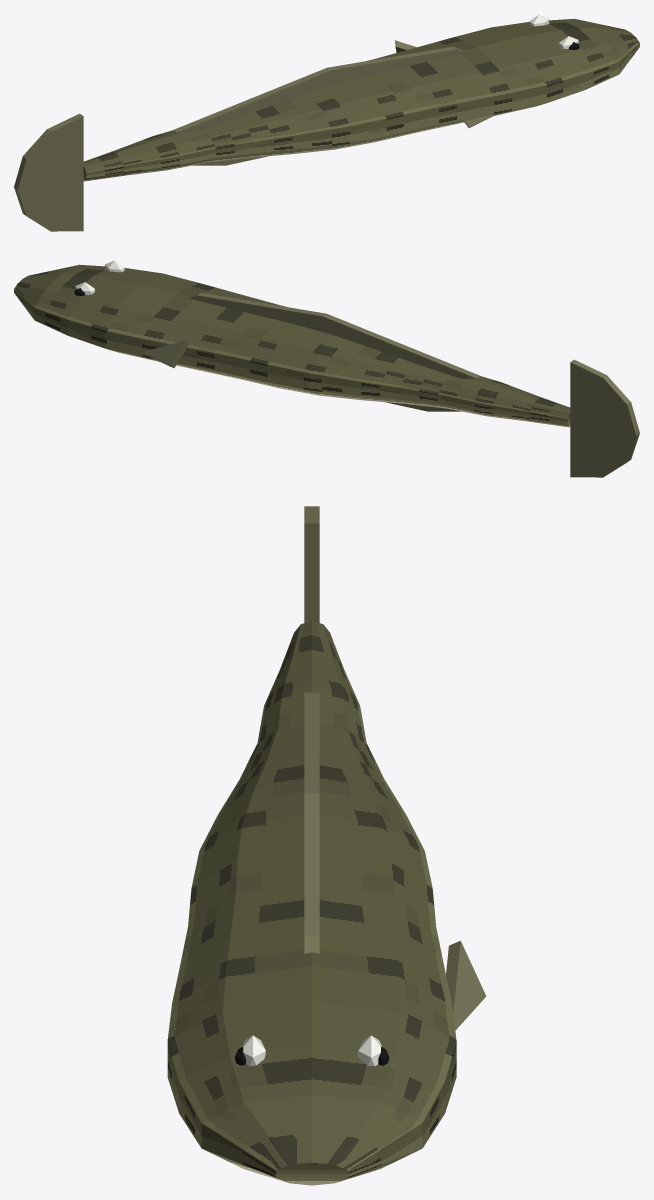
The model's file is rock_flathead.glb.
The picture shows the model from 3 angles, top to bottom: view 1: azimuth 30°, elevation 25°; view 2: azimuth 150°, elevation 25°; view 3: azimuth 270°, elevation 25°; orthographic projection. The views are drawn at different scales.
Parts seen in each view (by area): view 1: fish_rock_flathead; view 2: fish_rock_flathead; view 3: fish_rock_flathead.
Part boxes in pixels (left/top/right/bottom): fish_rock_flathead: left=14, top=14, right=639, bottom=231; fish_rock_flathead: left=14, top=260, right=639, bottom=477; fish_rock_flathead: left=167, top=506, right=486, bottom=1185.
Bounding box in the file's own units: 1.12 × 0.2 × 0.2515.
Materials: 4 (1 with a texture image).
